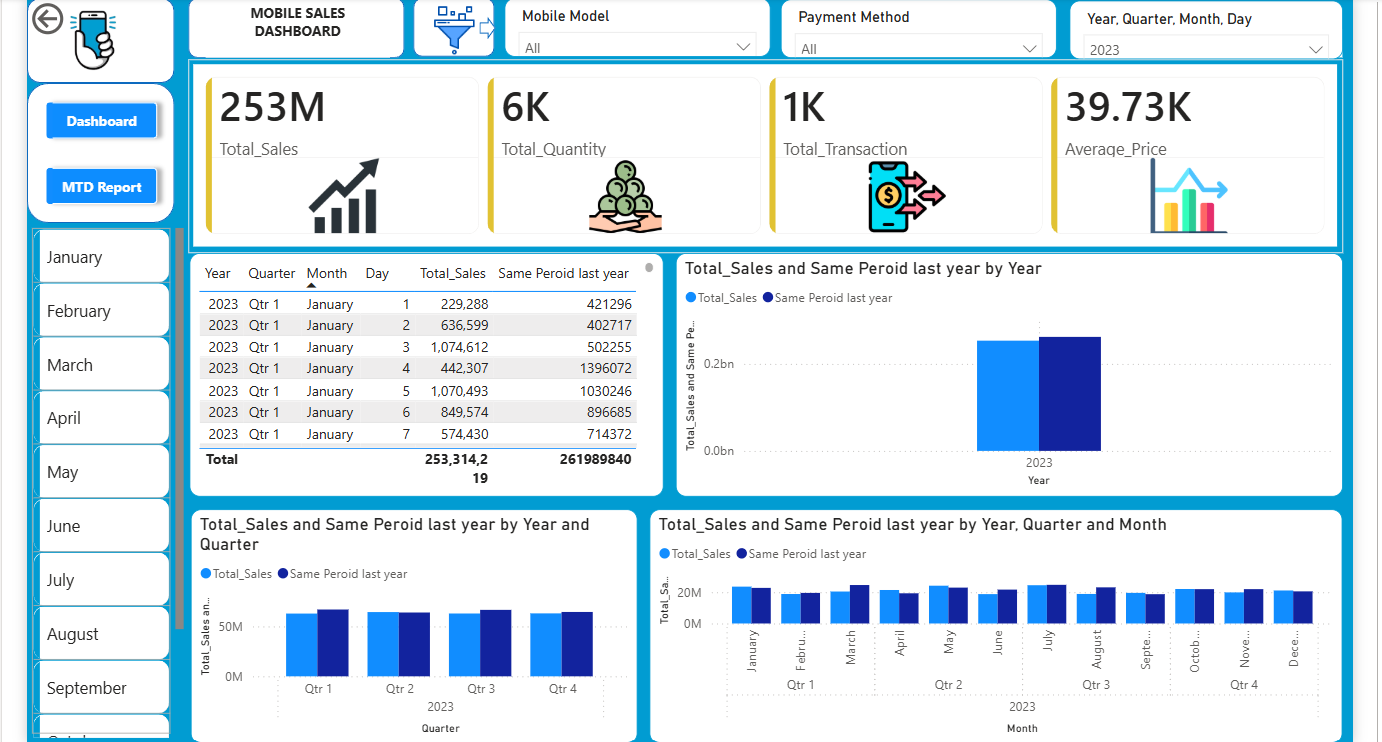

Layout of this report page (visuals, bound fields, positions):
{"tool":"powerbi","page":{"name":"Same Period Last Year","canvas":[1280,720],"ordinal":2},"visuals":[{"type":"shape","box":[0,0,142.4,82],"z":0},{"type":"image","box":[26.5,0,74.8,78.4],"z":1000},{"type":"shape","box":[0,82,142.4,135.1],"z":2000},{"type":"cardVisual","fields":{"Data":["Mobile_Sales_Data.Total_Sales","Mobile_Sales_Data.Total_Quantity","Mobile_Sales_Data.Total_Transaction","Mobile_Sales_Data.Average_Price"]},"box":[155.6,59.1,1114.8,187],"z":3000},{"type":"slicer","fields":{"Values":["Mobile_Sales_Data.Mobile Model"]},"box":[460.9,0,257,56.7],"z":4000},{"type":"slicer","fields":{"Values":["Mobile_Sales_Data.Payment Method"]},"box":[727.5,1.2,266.6,56.7],"z":5000},{"type":"slicer","fields":{"Values":["Custom_Calender.Column1.Variation.Date Hierarchy.Year","Custom_Calender.Column1.Variation.Date Hierarchy.Quarter","Custom_Calender.Column1.Variation.Date Hierarchy.Month","Custom_Calender.Column1.Variation.Date Hierarchy.Day"]},"box":[1006.2,2.4,264.2,56.7],"z":6000},{"type":"shape","box":[372.8,0,78.4,56.7],"z":7000},{"type":"image","box":[388.5,4.8,48.3,53.1],"z":8000},{"type":"shape","box":[436.7,18.1,15.7,21.7],"z":9000},{"type":"shape","box":[155.6,0,208.7,57.9],"z":10000},{"type":"textbox","box":[172.5,0,177.3,57.9],"z":11000},{"type":"actionButton","box":[0,0,100,40],"z":12000},{"type":"advancedSlicerVisual","fields":{"Values":["Custom_Calender.Column1.Variation.Date Hierarchy.Month"]},"box":[0,217.5,156.2,502.5],"z":13000},{"type":"tableEx","fields":{"Values":["Custom_Calender.Column1.Variation.Date Hierarchy.Year","Custom_Calender.Column1.Variation.Date Hierarchy.Quarter","Custom_Calender.Column1.Variation.Date Hierarchy.Month","Custom_Calender.Column1.Variation.Date Hierarchy.Day","Mobile_Sales_Data.Total_Sales","Mobile_Sales_Data.Same Peroid last year"]},"box":[156.2,246.2,457.5,235],"z":14000},{"type":"clusteredColumnChart","fields":{"Category":["Custom_Calender.Column1.Variation.Date Hierarchy.Year","Custom_Calender.Column1.Variation.Date Hierarchy.Quarter","Custom_Calender.Column1.Variation.Date Hierarchy.Month","Custom_Calender.Column1.Variation.Date Hierarchy.Day"],"Y":["Mobile_Sales_Data.Total_Sales","Mobile_Sales_Data.Same Peroid last year"]},"box":[626.2,246.2,643.8,235],"z":15000},{"type":"clusteredColumnChart","fields":{"Category":["Custom_Calender.Column1.Variation.Date Hierarchy.Year","Custom_Calender.Column1.Variation.Date Hierarchy.Quarter","Custom_Calender.Column1.Variation.Date Hierarchy.Month","Custom_Calender.Column1.Variation.Date Hierarchy.Day"],"Y":["Mobile_Sales_Data.Total_Sales","Mobile_Sales_Data.Same Peroid last year"]},"box":[601.2,493.8,668.8,226.2],"z":16000},{"type":"clusteredColumnChart","fields":{"Category":["Custom_Calender.Column1.Variation.Date Hierarchy.Year","Custom_Calender.Column1.Variation.Date Hierarchy.Quarter","Custom_Calender.Column1.Variation.Date Hierarchy.Month","Custom_Calender.Column1.Variation.Date Hierarchy.Day"],"Y":["Mobile_Sales_Data.Total_Sales","Mobile_Sales_Data.Same Peroid last year"]},"box":[157.5,493.8,431.2,226.2],"z":17000},{"type":"pageNavigator","box":[10,91.2,125,116.2],"z":18000}]}

Visuals, with their boxes on the page's 1280x720 design canvas (x1, y1, x2, y2). These are canvas units, not pixel positions in the 1382x742 screenshot, which may show the page scaled, cropped or inside an application window:
shape: [0,0,142,82]
image: [26,0,101,78]
shape: [0,82,142,217]
cardVisual - Mobile_Sales_Data.Total_Sales x Mobile_Sales_Data.Total_Quantity: [156,59,1270,246]
slicer - Mobile_Sales_Data.Mobile Model: [461,0,718,57]
slicer - Mobile_Sales_Data.Payment Method: [728,1,994,58]
slicer - Custom_Calender.Column1.Variation.Date Hierarchy.Year x Custom_Calender.Column1.Variation.Date Hierarchy.Quarter: [1006,2,1270,59]
shape: [373,0,451,57]
image: [388,5,437,58]
shape: [437,18,452,40]
shape: [156,0,364,58]
textbox: [172,0,350,58]
actionButton: [0,0,100,40]
advancedSlicerVisual - Custom_Calender.Column1.Variation.Date Hierarchy.Month: [0,218,156,720]
tableEx - Custom_Calender.Column1.Variation.Date Hierarchy.Year x Custom_Calender.Column1.Variation.Date Hierarchy.Quarter: [156,246,614,481]
clusteredColumnChart - Custom_Calender.Column1.Variation.Date Hierarchy.Year x Custom_Calender.Column1.Variation.Date Hierarchy.Quarter: [626,246,1270,481]
clusteredColumnChart - Custom_Calender.Column1.Variation.Date Hierarchy.Year x Custom_Calender.Column1.Variation.Date Hierarchy.Quarter: [601,494,1270,720]
clusteredColumnChart - Custom_Calender.Column1.Variation.Date Hierarchy.Year x Custom_Calender.Column1.Variation.Date Hierarchy.Quarter: [158,494,589,720]
pageNavigator: [10,91,135,207]
